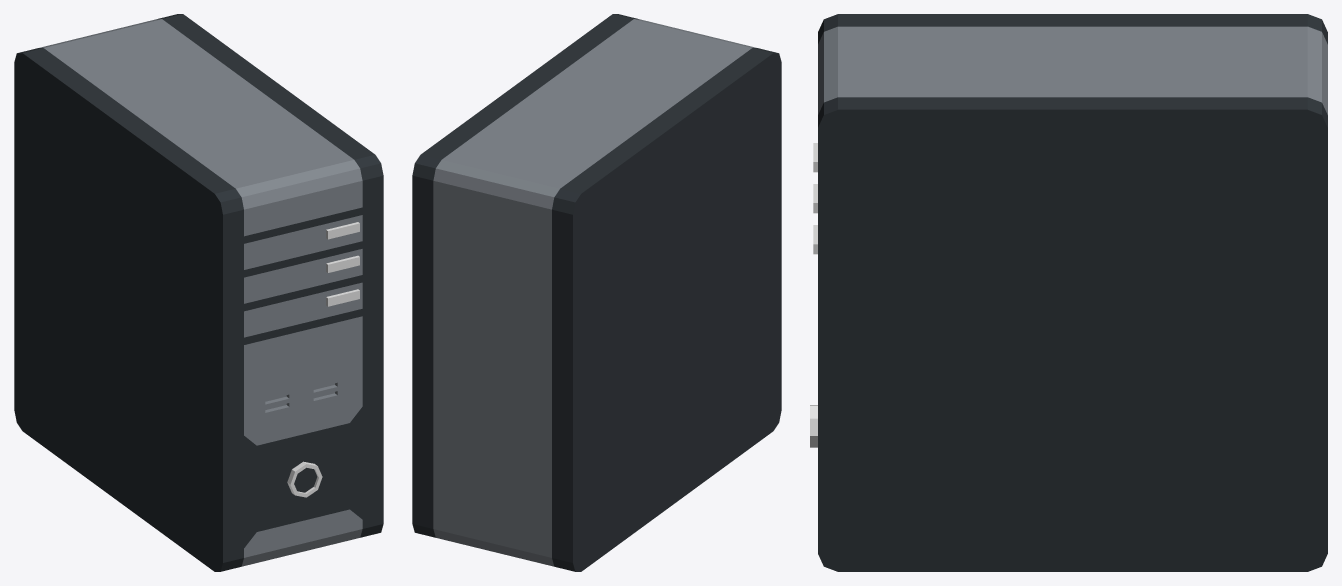
File: SM_Props_PC_04.fbx
3 renders of one model, left to right at view 1: azimuth 30°, elevation 25°; view 2: azimuth 150°, elevation 25°; view 3: azimuth 270°, elevation 25°, orthographic. The views are drawn at different scales.
Parts seen in each view (by area): view 1: SM_Props_PC_04; view 2: SM_Props_PC_04; view 3: SM_Props_PC_04.
Boxes of the visible parts, x1=… form: SM_Props_PC_04: x1=14, y1=14, x2=383, y2=571; SM_Props_PC_04: x1=412, y1=14, x2=781, y2=571; SM_Props_PC_04: x1=810, y1=14, x2=1327, y2=571.
Size of the model in its own units: 0.2 by 0.45 by 0.457.
